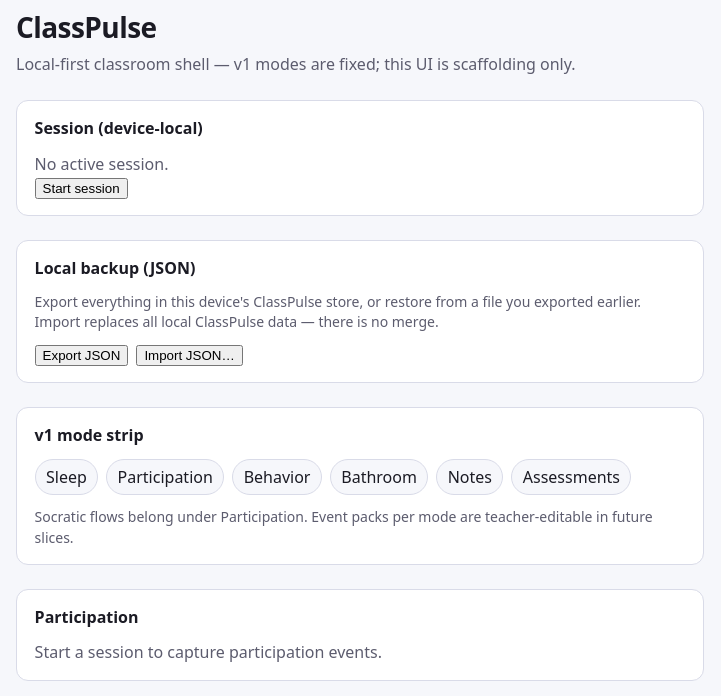
Test: App shell › defaults active mode to participation when a new session is started
Click the button "Start session": (81, 188) left=35, top=178, right=128, bottom=199
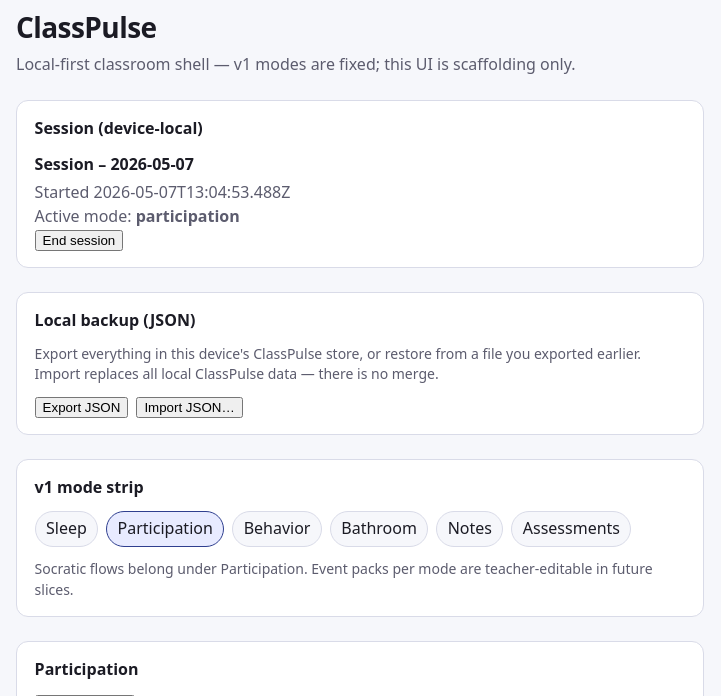
Expected: the button "End session" is shown, left=35, top=230, right=123, bottom=251
Expected: the text "participation" is shown, left=136, top=204, right=240, bottom=226
